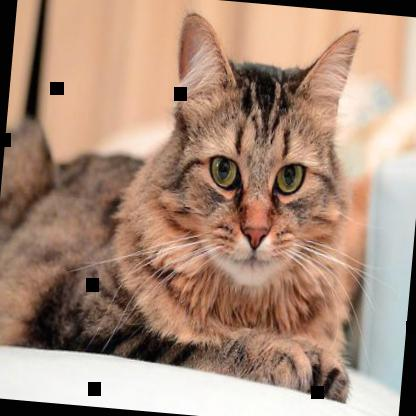cat: (0, 0, 382, 407)
